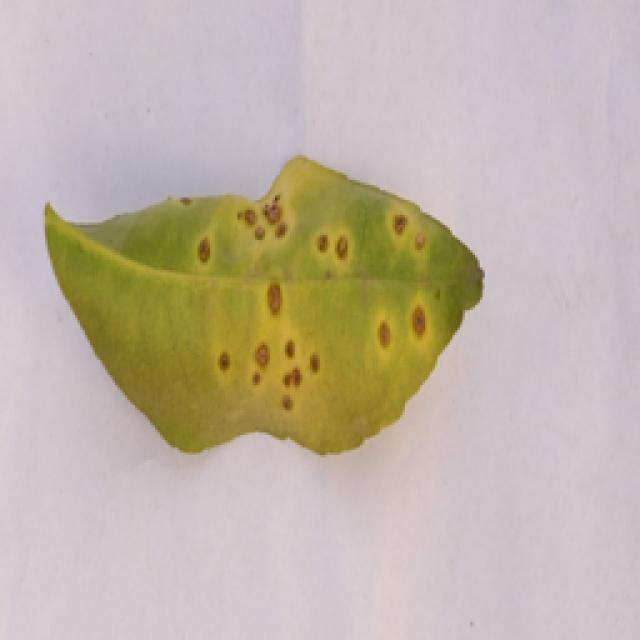canker: (120, 183, 470, 457)
